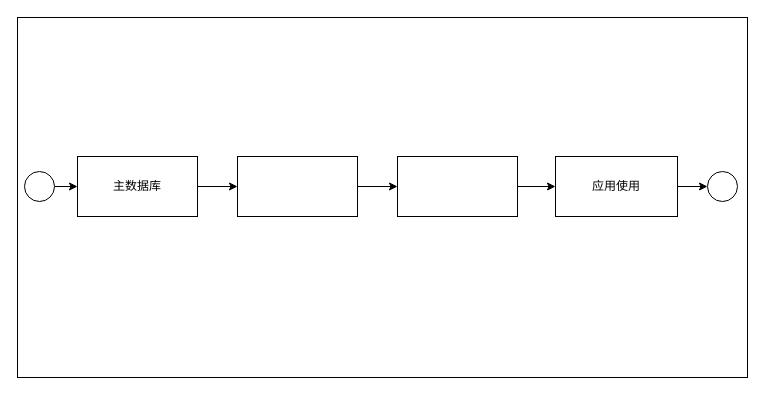
Some shapes in this 765 by 395 pixel diagram are drawn without their labels. Each missing label, with the box of its shape:
在线设计 WEB和移动端: (236, 156, 358, 216)
应用发布 WEB和移动端: (396, 156, 518, 216)
